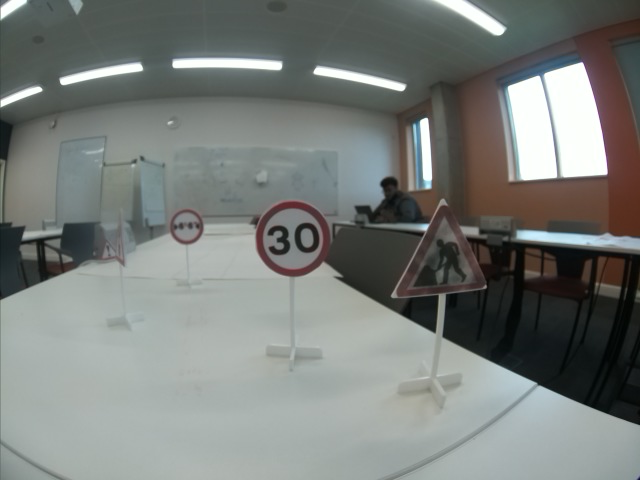30mph: (255, 199, 331, 277)
6ft6: (171, 209, 203, 246)
Roadworks: (395, 200, 487, 299)
Warning: (100, 239, 117, 259)
